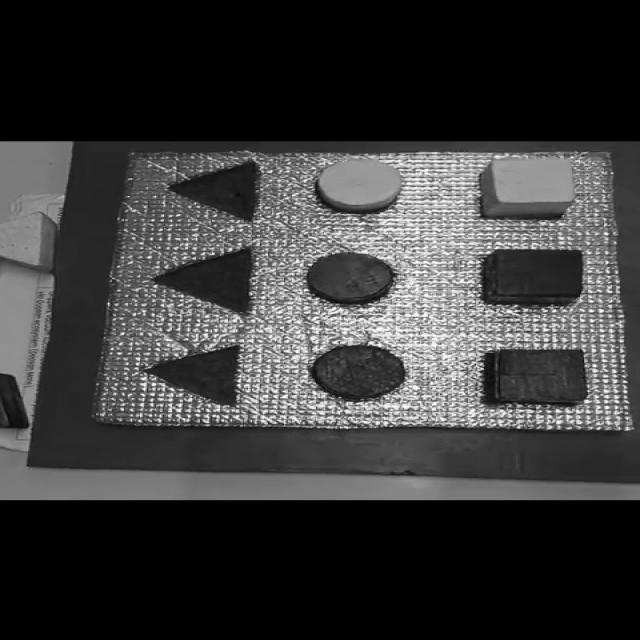bcircle: (311, 345, 406, 399)
bcube: (489, 348, 589, 404)
mttriangle: (152, 247, 256, 313), (141, 345, 243, 405), (168, 160, 261, 221)
rcircle: (308, 252, 393, 302)
rcube: (486, 248, 585, 304)
rtriangle: (0, 374, 29, 429)
ycircle: (317, 158, 400, 210)
ycube: (480, 153, 576, 215), (0, 211, 57, 271)
